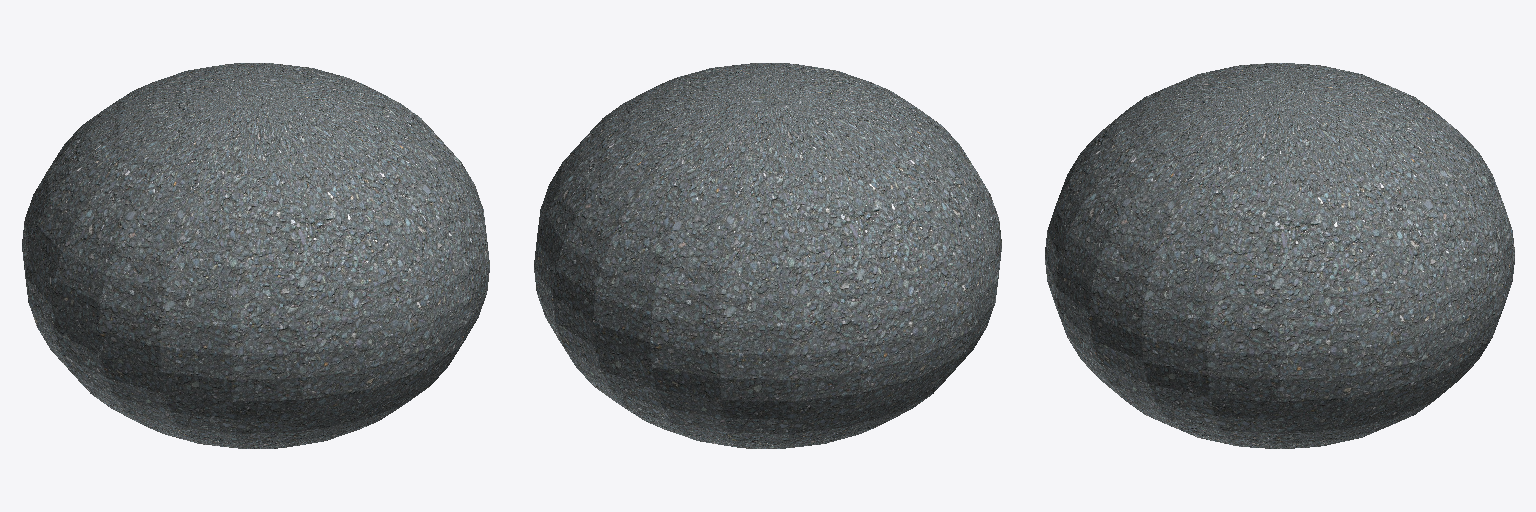
The picture shows the model from 3 angles: view 1: azimuth 30°, elevation 25°; view 2: azimuth 150°, elevation 25°; view 3: azimuth 270°, elevation 25°; orthographic projection.
Size of the model in its own units: 2.3 by 1.8 by 2.3.
1 materials, 1 textured.